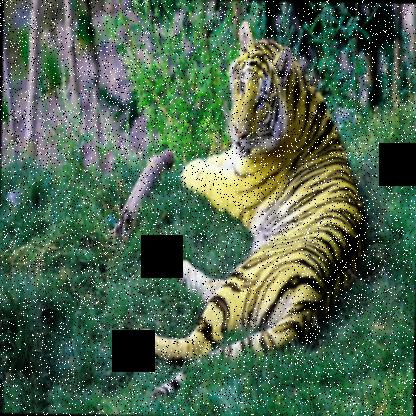Panthera tigris: (137, 16, 371, 408)
